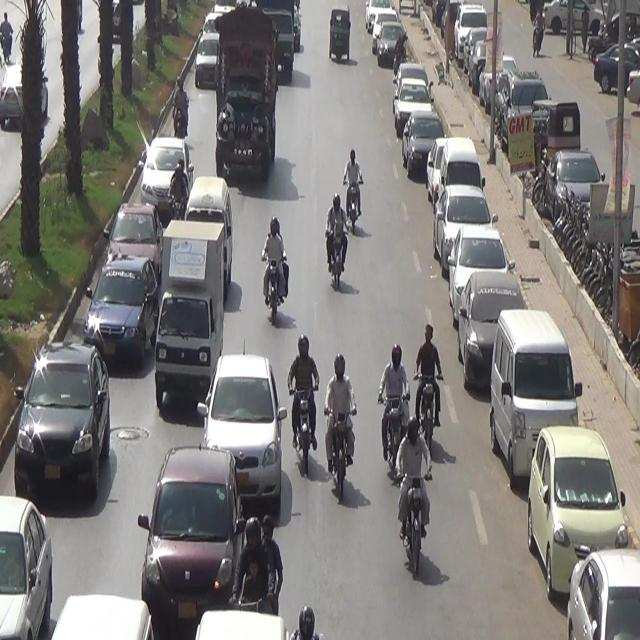car: (12, 336, 115, 518), (143, 444, 243, 611), (203, 347, 284, 494), (81, 255, 159, 376), (0, 492, 56, 640), (100, 198, 158, 276), (137, 132, 190, 212), (189, 31, 220, 96)
motorbike: (395, 411, 439, 576), (324, 352, 364, 503), (373, 326, 413, 477), (408, 304, 452, 441), (286, 326, 325, 479), (236, 503, 284, 619), (259, 215, 298, 335), (317, 182, 351, 304), (340, 142, 370, 250), (168, 69, 195, 139)
truck: (157, 212, 229, 418)
